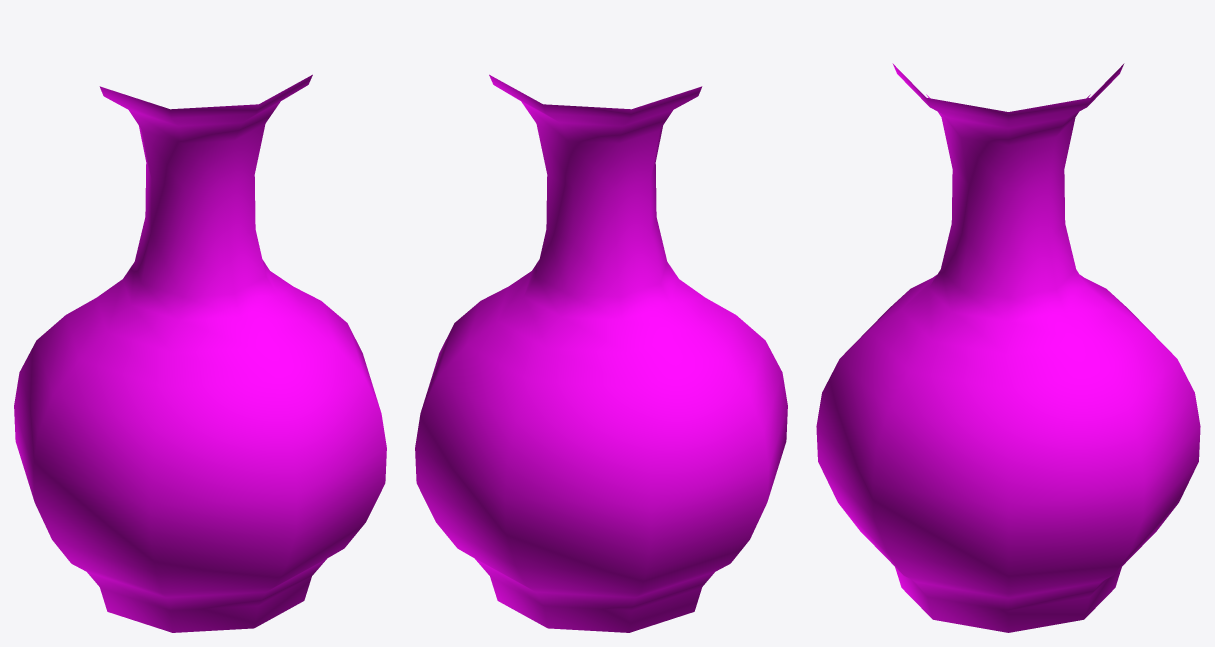
File: jarron.gltf
3 views of the same model, side by side, from view 1: azimuth 30°, elevation 25°; view 2: azimuth 150°, elevation 25°; view 3: azimuth 270°, elevation 25° (orthographic).
Visible parts, largest first — view 1: pasted__revolvedSurface1 group4; view 2: pasted__revolvedSurface1 group4; view 3: pasted__revolvedSurface1 group4.
Boxes of the visible parts, <box> form: pasted__revolvedSurface1 group4: <box>14,74,386,632</box>; pasted__revolvedSurface1 group4: <box>415,74,787,632</box>; pasted__revolvedSurface1 group4: <box>816,63,1200,632</box>.
Size of the model in its own units: 204 by 313 by 204.
